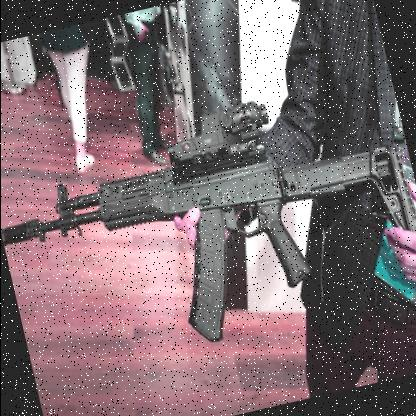rifle: (0, 87, 416, 405)
